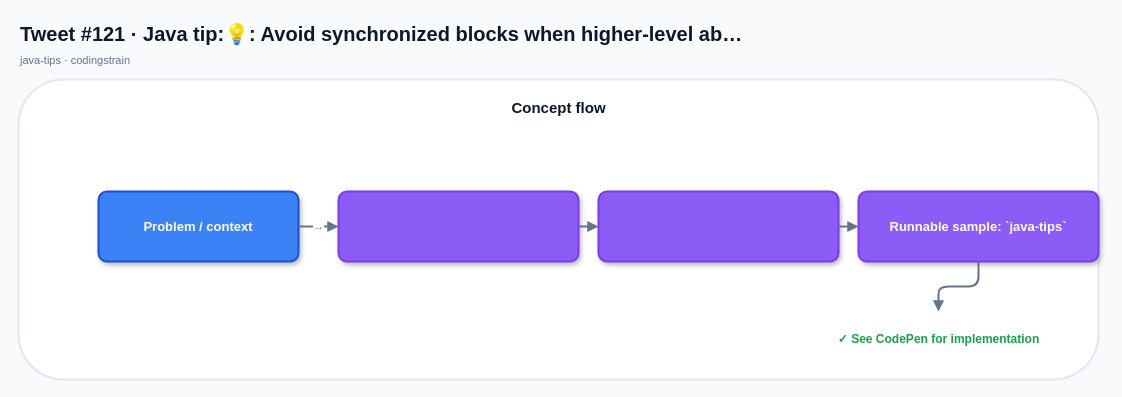
Image size: 1122x397. Some labels were removed from this diagram. The centre of each missing label's shape, as x and y in pixels:
Java tip:💡: Avoid synchronized blocks when higher-level abstractions e: point 719,227
💡 Java tip:💡: Avoid synchronized blocks when higher-level abstractions: point 459,227
